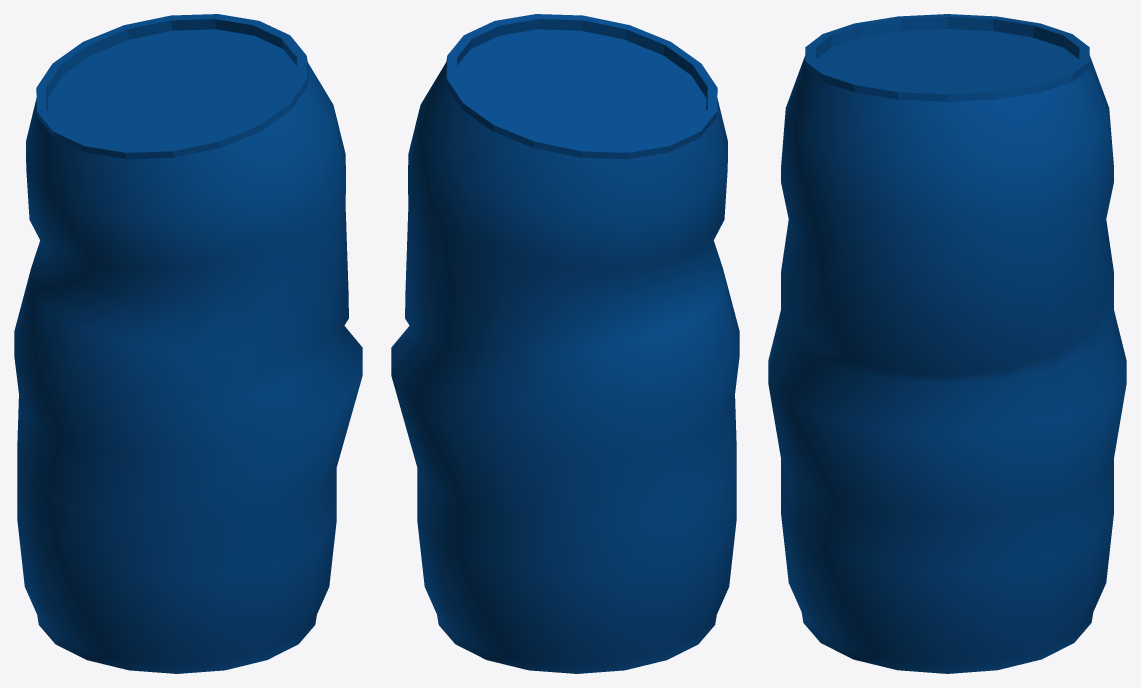
File: umgebung_dose_2_low.FBX
3 renders of one model, left to right at view 1: azimuth 30°, elevation 25°; view 2: azimuth 150°, elevation 25°; view 3: azimuth 270°, elevation 25°, orthographic. The views are drawn at different scales.
Parts seen in each view (by area): view 1: o_dose_2_low; view 2: o_dose_2_low; view 3: o_dose_2_low.
Part boxes in pixels (x1,y1,x2,y2): o_dose_2_low: [14, 14, 362, 673]; o_dose_2_low: [391, 14, 739, 673]; o_dose_2_low: [768, 14, 1126, 673].
Size of the model in its own units: 9.73 by 9.41 by 16.65.
